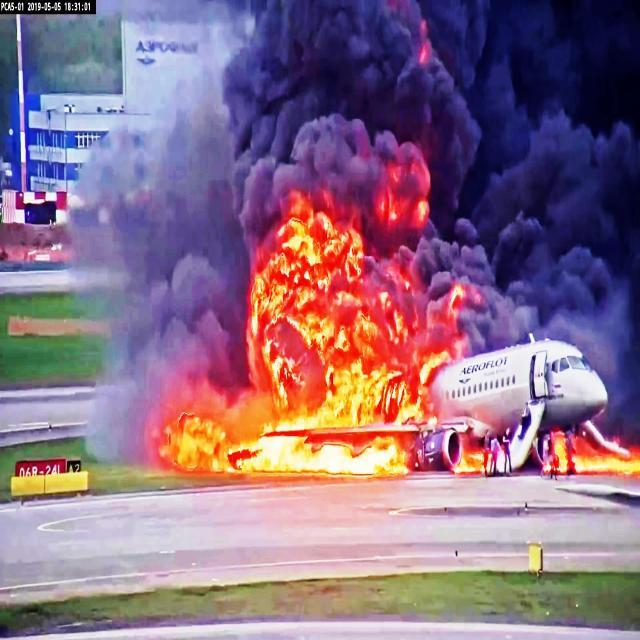Fire: (244, 215, 444, 424), (265, 428, 415, 476), (146, 415, 262, 475), (547, 430, 640, 474), (328, 370, 379, 428), (456, 441, 490, 483)
Smoke: (146, 0, 640, 215), (444, 11, 640, 280), (108, 216, 244, 404), (447, 282, 640, 358)
